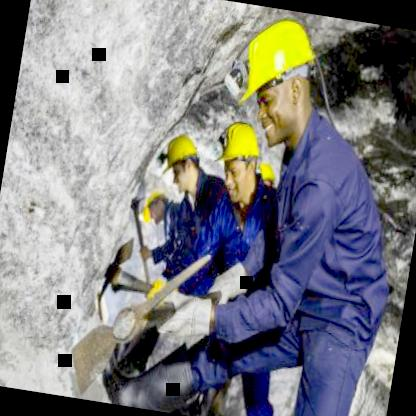helmet: (223, 3, 333, 158), (210, 112, 268, 202), (158, 128, 208, 196), (140, 184, 169, 224), (253, 158, 277, 188)
